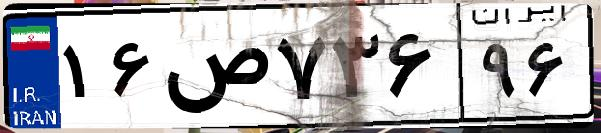1: (57, 26, 110, 100)
3: (330, 28, 385, 110)
6: (385, 28, 445, 110), (525, 38, 570, 115), (110, 28, 158, 98)
7: (270, 28, 330, 110)
9: (475, 38, 525, 113)
ص: (158, 20, 270, 120)
